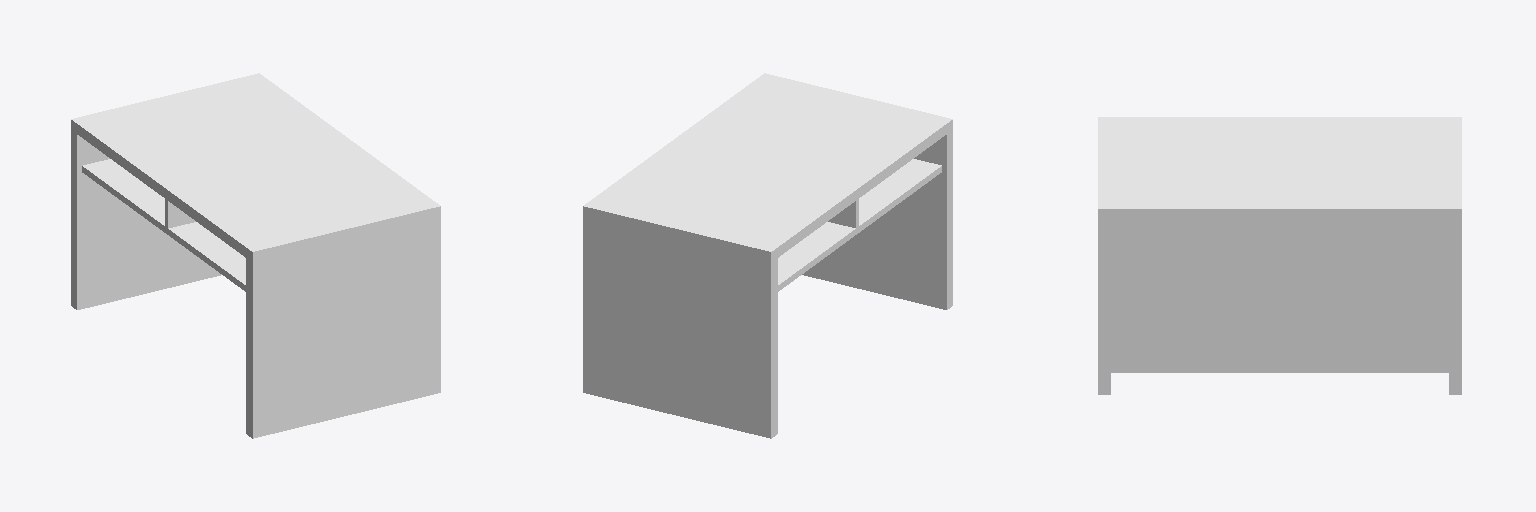
Rendered from Science_room_desk.obj.
3 renders of one model, left to right at view 1: azimuth 30°, elevation 25°; view 2: azimuth 150°, elevation 25°; view 3: azimuth 270°, elevation 25°, orthographic.
Parts seen in each view (by area): view 1: Box011; view 2: Box011; view 3: Box011.
Part boxes in pixels (bbox=[...]): Box011: bbox=[71, 73, 440, 438]; Box011: bbox=[583, 73, 952, 438]; Box011: bbox=[1098, 117, 1461, 394].
Bounding box in the file's own units: 1.12 × 1.06 × 1.87.